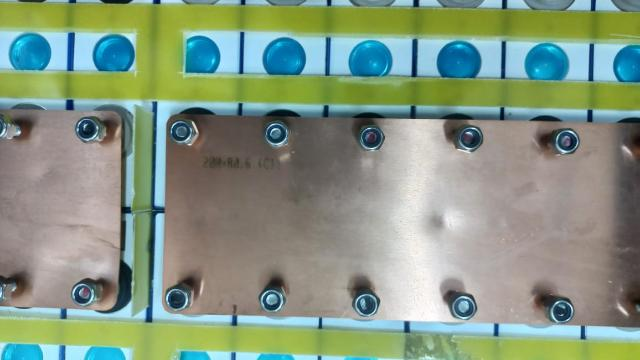busbar: (155, 106, 640, 338), (1, 109, 128, 309)
